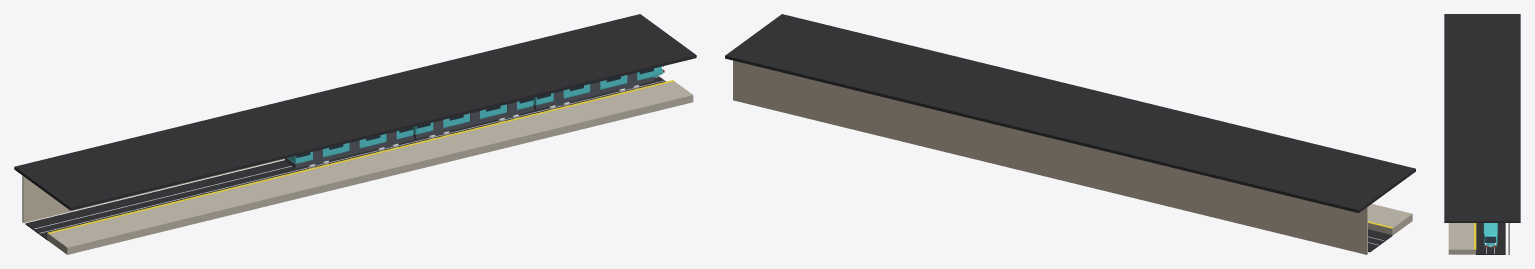
File: metro.glb
The picture shows the model from 3 angles, left to right: view 1: azimuth 30°, elevation 25°; view 2: azimuth 150°, elevation 25°; view 3: azimuth 270°, elevation 25°; orthographic projection. The views are drawn at different scales.
Parts seen in each view (by area): view 1: Techo, Anden, Via, Muro, LineaAmarilla, Riel, Cuerpo.002, Cuerpo, Cuerpo.001, Bajos.002, Bajos, Bajos.001; view 2: Techo, Muro, Anden; view 3: Techo, Anden, Via, Cuerpo, Nariz, LineaAmarilla, Parabrisas, Muro.
Part boxes in pixels (x1,y1,x2,y2): Techo: [14, 14, 696, 210]; Anden: [47, 81, 693, 254]; Via: [25, 76, 665, 240]; Muro: [22, 158, 284, 222]; LineaAmarilla: [47, 80, 674, 233]; Riel: [39, 80, 665, 233]; Cuerpo.002: [287, 130, 413, 163]; Cuerpo: [533, 71, 653, 105]; Cuerpo.001: [413, 100, 533, 134]; Bajos.002: [285, 135, 413, 168]; Bajos: [533, 77, 654, 109]; Bajos.001: [413, 106, 533, 138]; Techo: [725, 14, 1415, 212]; Muro: [733, 60, 1367, 254]; Anden: [1368, 204, 1412, 235]; Techo: [1444, 14, 1520, 222]; Anden: [1448, 223, 1475, 254]; Via: [1475, 223, 1505, 254]; Cuerpo: [1483, 223, 1497, 242]; Nariz: [1484, 233, 1497, 246]; LineaAmarilla: [1474, 223, 1476, 249]; Parabrisas: [1485, 236, 1495, 242]; Muro: [1508, 223, 1509, 254].
Size of the model in its own units: 90 by 6.85 by 14.
